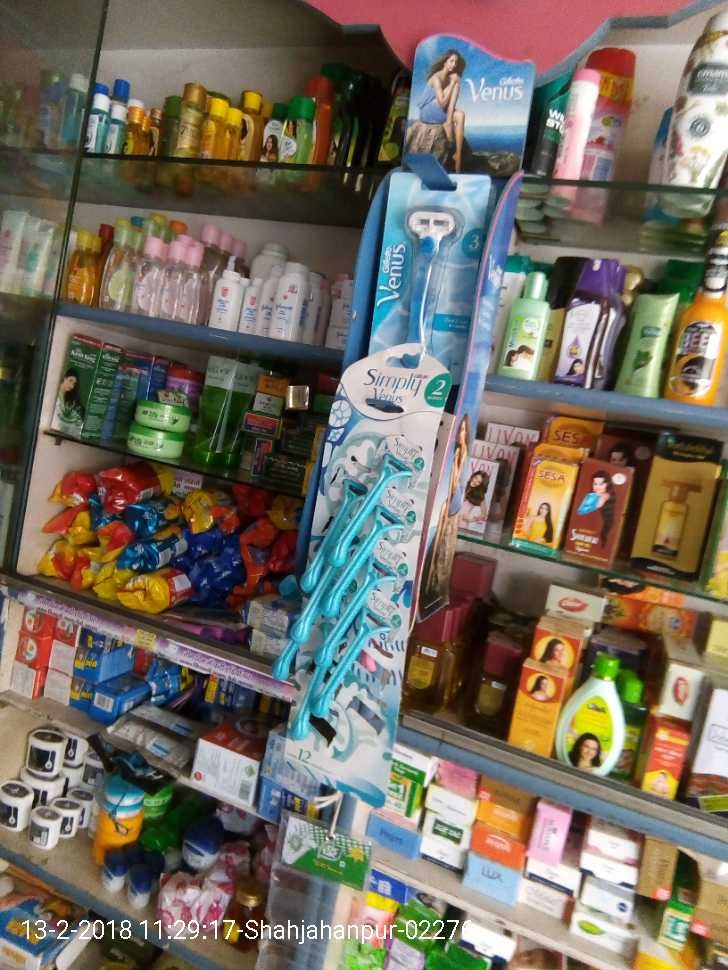venus: (372, 167, 474, 380)
